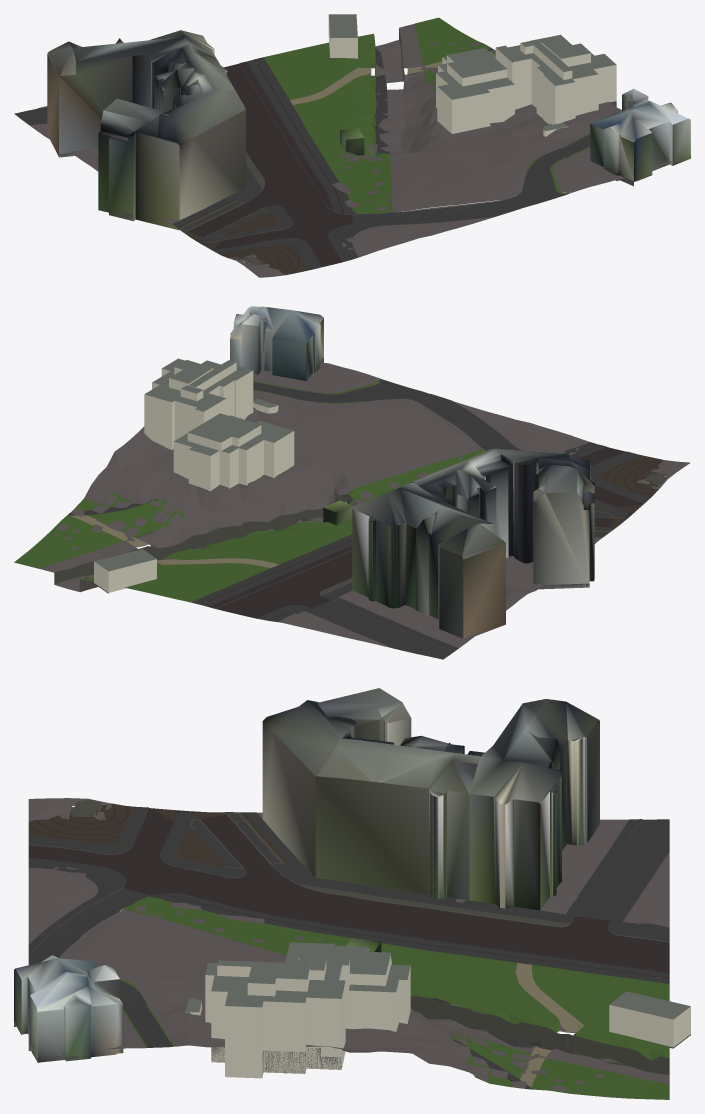
The picture shows the model from 3 angles, top to bottom: view 1: azimuth 30°, elevation 25°; view 2: azimuth 150°, elevation 25°; view 3: azimuth 270°, elevation 25°; orthographic projection. The views are drawn at different scales.
Visible parts, largest first — view 1: c_p01_p08; view 2: c_p01_p08; view 3: c_p01_p08.
Part boxes in pixels (<box>): c_p01_p08: <box>14,14,690,277</box>; c_p01_p08: <box>14,306,690,659</box>; c_p01_p08: <box>14,688,690,1099</box>.
Bounding box in the file's own units: 140 × 34.65 × 135.
